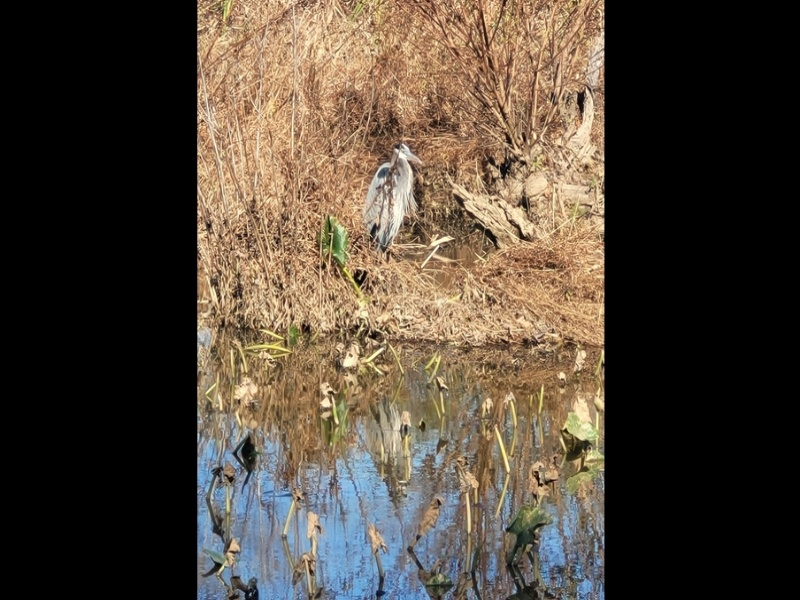heron: (362, 141, 424, 260)
